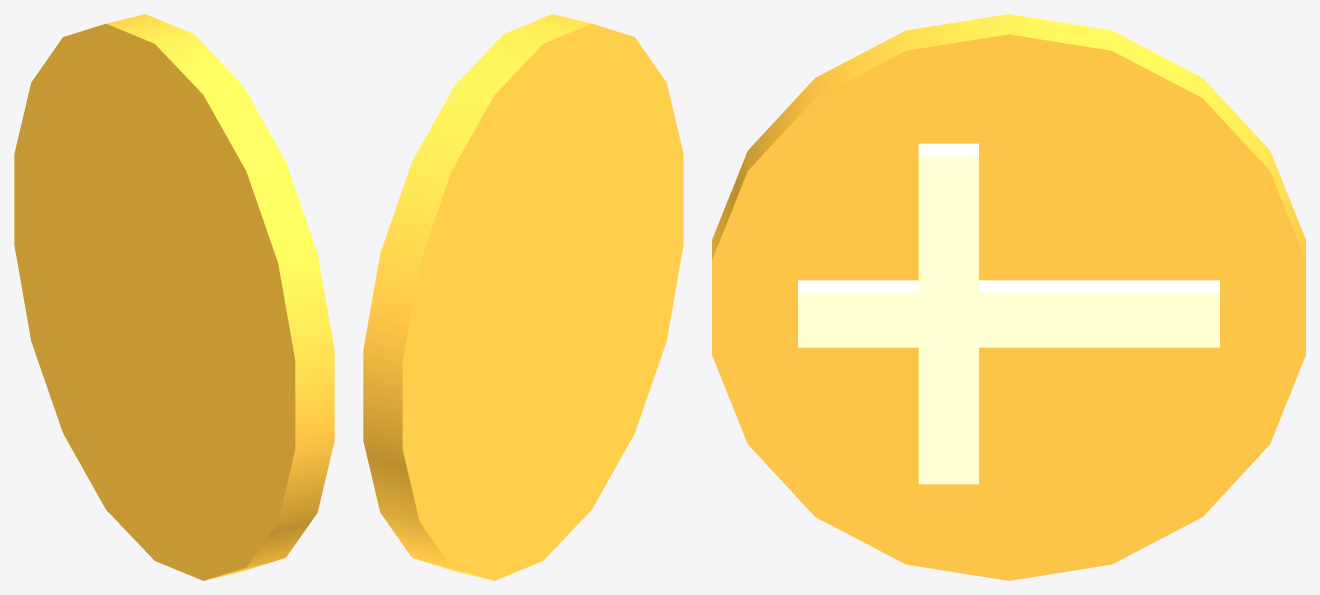
The model's file is shield.glb.
3 views of the same model, side by side, from view 1: azimuth 30°, elevation 25°; view 2: azimuth 150°, elevation 25°; view 3: azimuth 270°, elevation 25° (orthographic). The views are drawn at different scales.
Visible parts, largest first — view 1: Disc; view 2: Disc; view 3: Disc, Cross.
Part boxes in pixels (left/top/right/bottom): Disc: left=14, top=14, right=334, bottom=580; Disc: left=363, top=14, right=683, bottom=580; Disc: left=712, top=14, right=1305, bottom=580; Cross: left=798, top=143, right=1219, bottom=484.
Size of the model in its own units: 0.13 by 1 by 0.9848.
